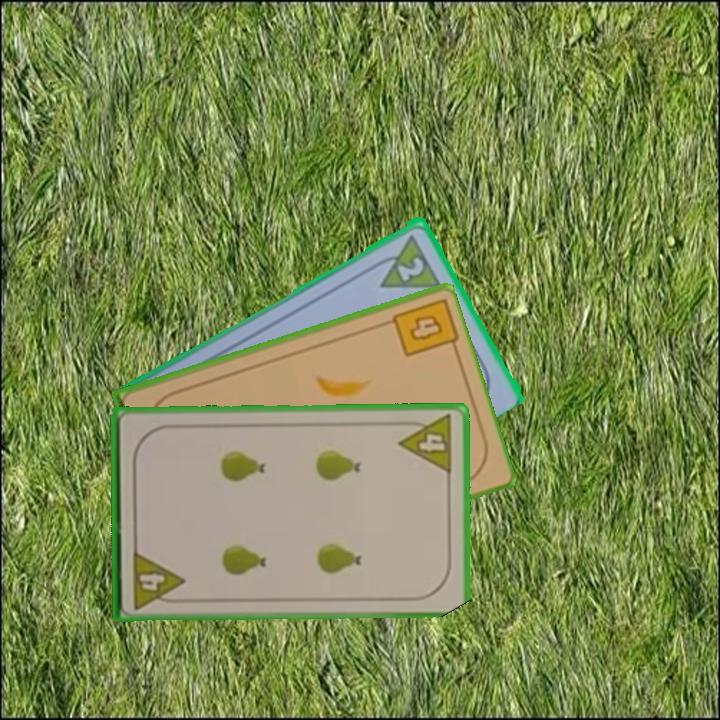2p: (367, 229, 444, 291)
4b: (406, 310, 446, 343)
4p: (396, 411, 456, 476), (129, 547, 186, 612)
